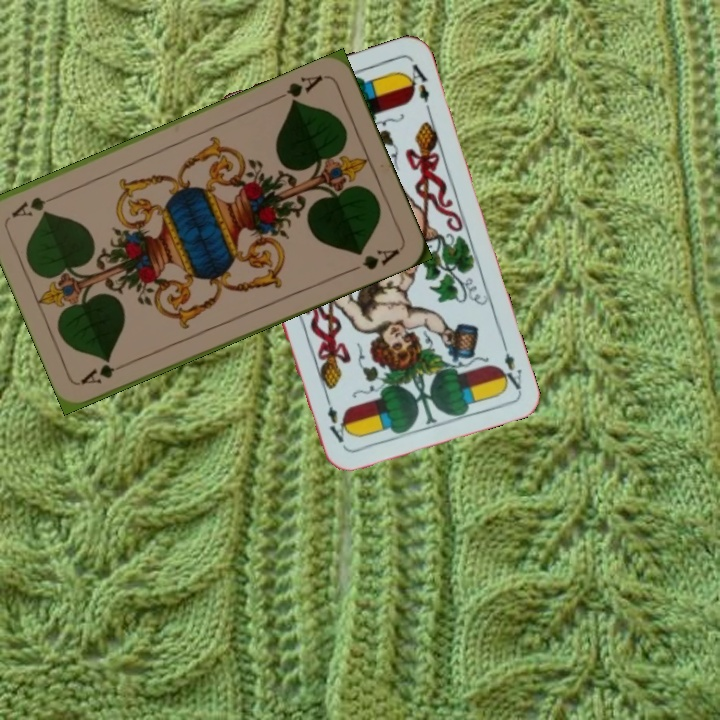EA: (495, 335, 525, 393)
GA: (271, 71, 326, 107), (77, 357, 134, 387)
